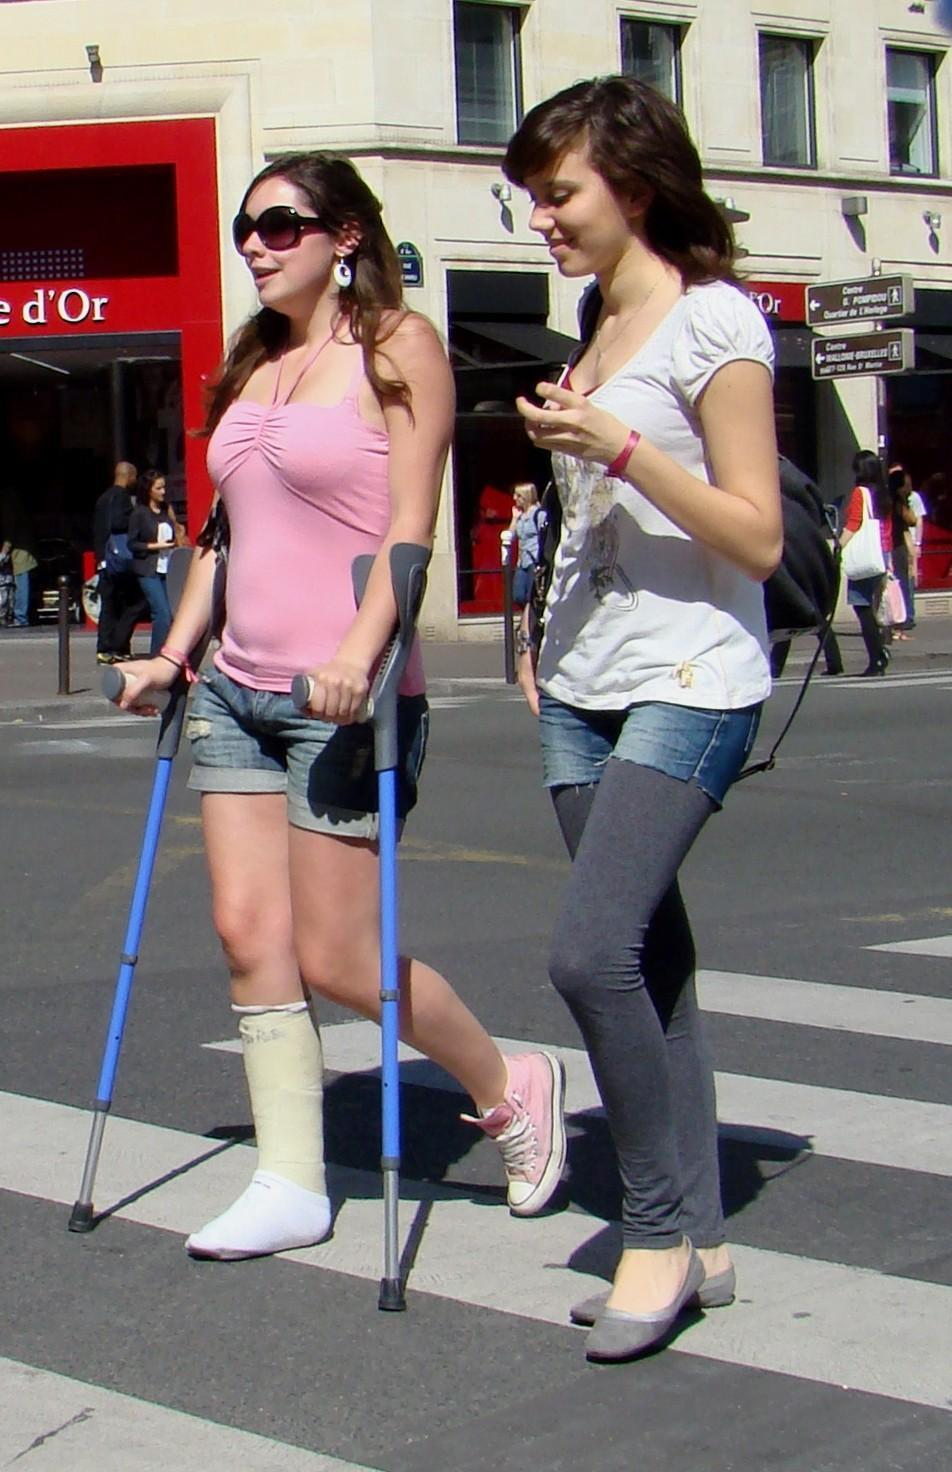crutches: (48, 114, 490, 1333)
